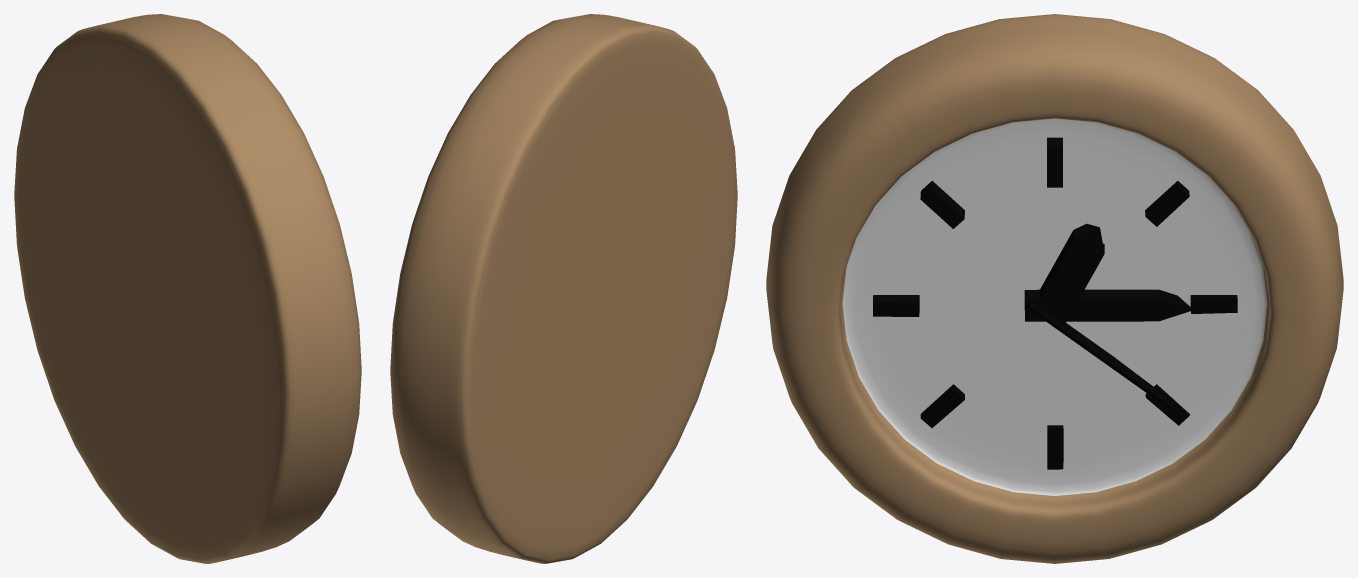
File: clock.fbx
3 views of the same model, side by side, from view 1: azimuth 30°, elevation 25°; view 2: azimuth 150°, elevation 25°; view 3: azimuth 270°, elevation 25° (orthographic). The views are drawn at different scales.
Parts seen in each view (by area): view 1: Cylinder.001; view 2: Cylinder.001; view 3: Cylinder.001, Cube.009, Cube.008, Cube.007, Cube.002, Cube.006, Cube.003, Cube.001, Cube.005.
Boxes of the visible parts, <box> form: Cylinder.001: <box>14,14,361,563</box>; Cylinder.001: <box>390,14,737,563</box>; Cylinder.001: <box>766,14,1343,563</box>; Cube.009: <box>1024,223,1193,412</box>; Cube.008: <box>920,180,964,228</box>; Cube.007: <box>873,295,919,316</box>; Cube.002: <box>1145,181,1189,226</box>; Cube.006: <box>920,384,964,427</box>; Cube.003: <box>1190,295,1237,313</box>; Cube.001: <box>1047,137,1062,187</box>; Cube.005: <box>1047,425,1063,469</box>.
Bounding box in the file's own units: 19.28 × 104 × 104.
